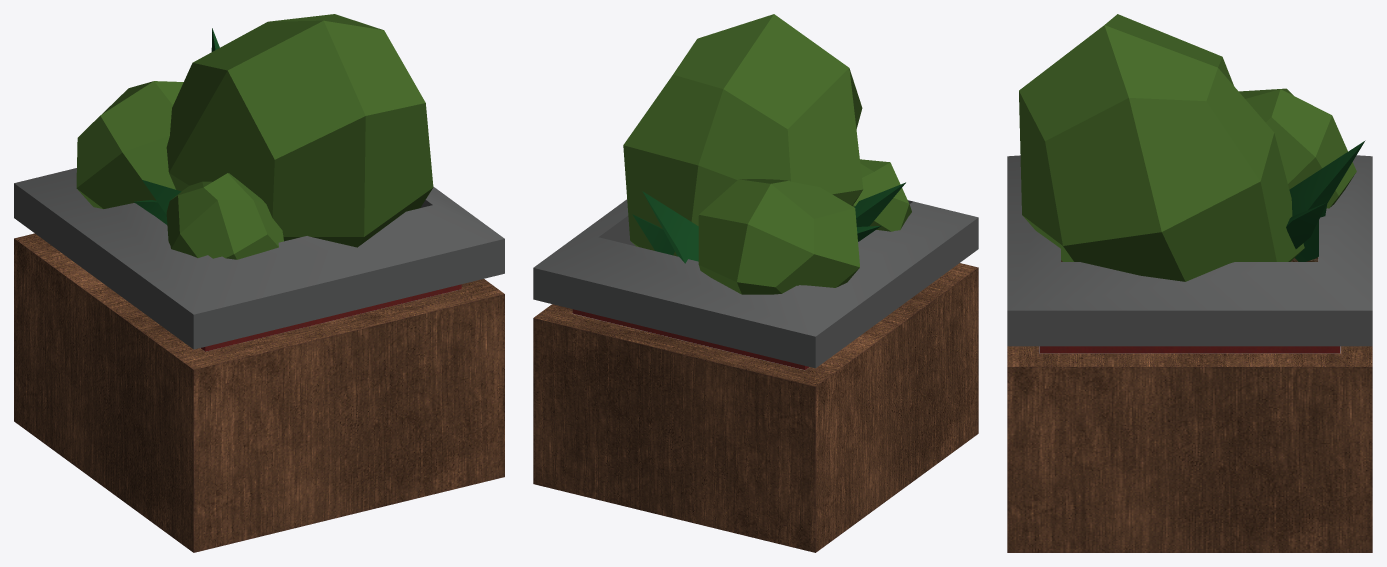
The model's file is Plant2.gltf.
3 views of the same model, side by side, from view 1: azimuth 30°, elevation 25°; view 2: azimuth 150°, elevation 25°; view 3: azimuth 270°, elevation 25° (orthographic). The views are drawn at different scales.
Visible parts, largest first — view 1: pPlatonic8; view 2: pPlatonic8; view 3: pPlatonic8.
Boxes of the visible parts, x1,y1,x2,y2 form: pPlatonic8: (14,14,504,552); pPlatonic8: (533,14,978,552); pPlatonic8: (1007,14,1372,552).
Bounding box in the file's own units: 1.1 × 1.54 × 1.1.
Materials: 1 (1 with a texture image).
